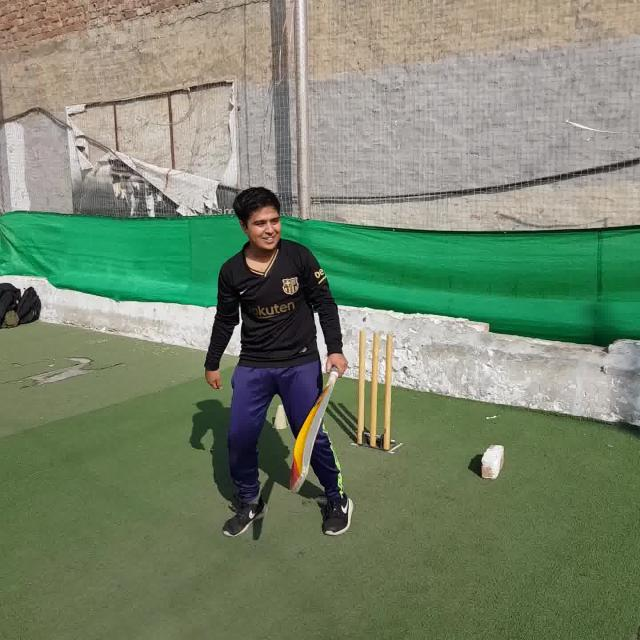bat: (290, 369, 337, 494)
